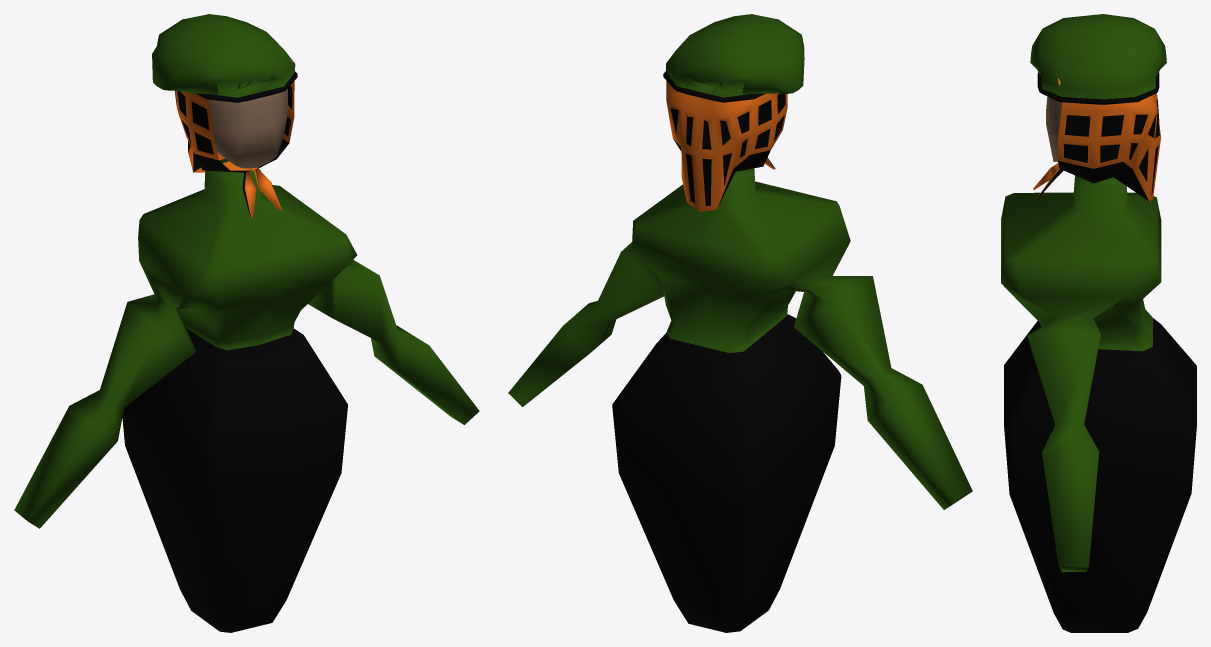
File: RACHAEL.glb
The picture shows the model from 3 angles, left to right: view 1: azimuth 30°, elevation 25°; view 2: azimuth 150°, elevation 25°; view 3: azimuth 270°, elevation 25°; orthographic projection.
Parts seen in each view (by area): view 1: Body; view 2: Body; view 3: Body.
Part boxes in pixels (<box>): Body: <box>14,14,479,632</box>; Body: <box>508,14,972,632</box>; Body: <box>1001,14,1196,632</box>.
Bounding box in the file's own units: 2.45 × 3.06 × 0.9231.
1 material, 1 textured.
